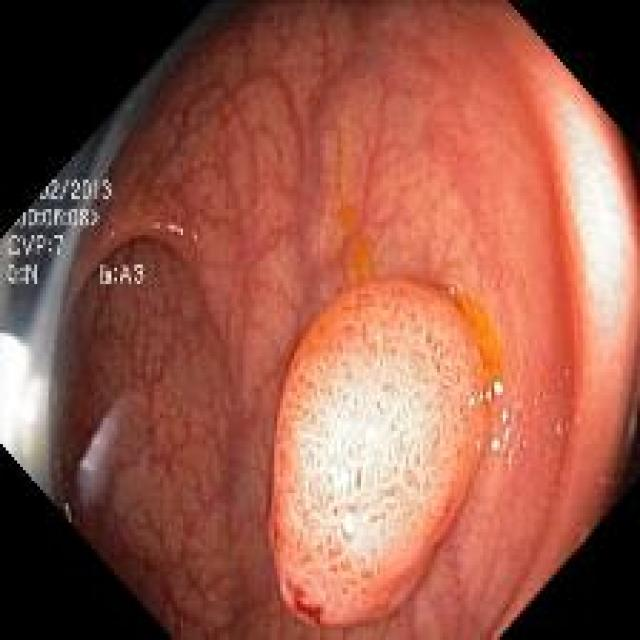Polyps: (270, 280, 484, 627)
